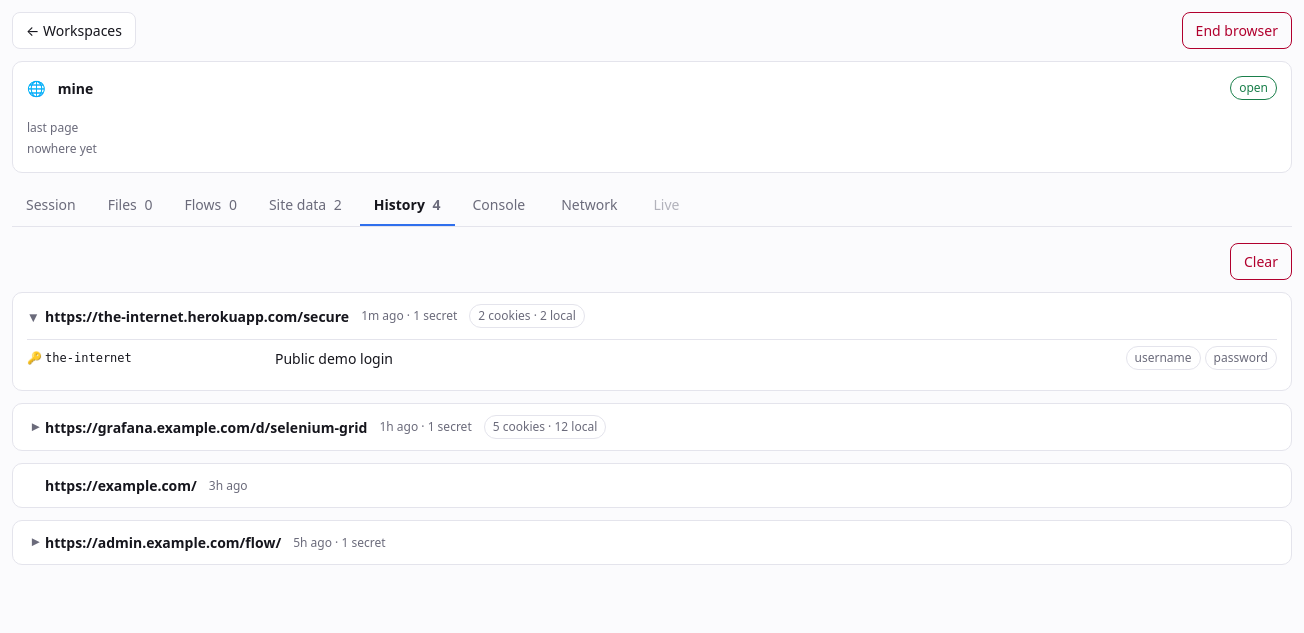
Test: rows fold like Site data: the top one opens to its secrets, the rest stay shut
Expected: the element with class "secret" shows "🔑 the-internet", [27,339,1277,376]
Expected: the element with class "secret" shows "Public demo login", [275,348,393,368]
Click the 2nd button with class "title": (197, 427) [27,416,367,438]
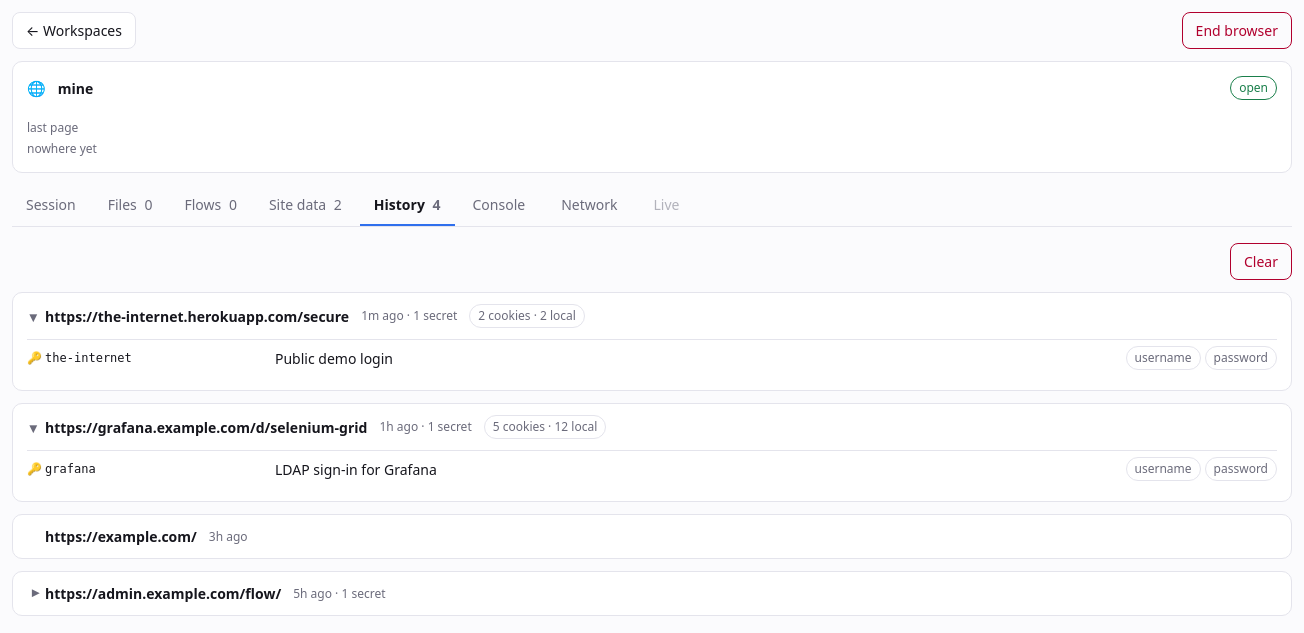
Now the element with class "secret" shows "🔑 grafana", box [27,450,1277,487]
